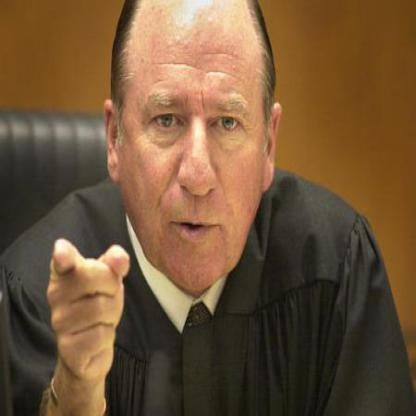face: (121, 1, 271, 293)
